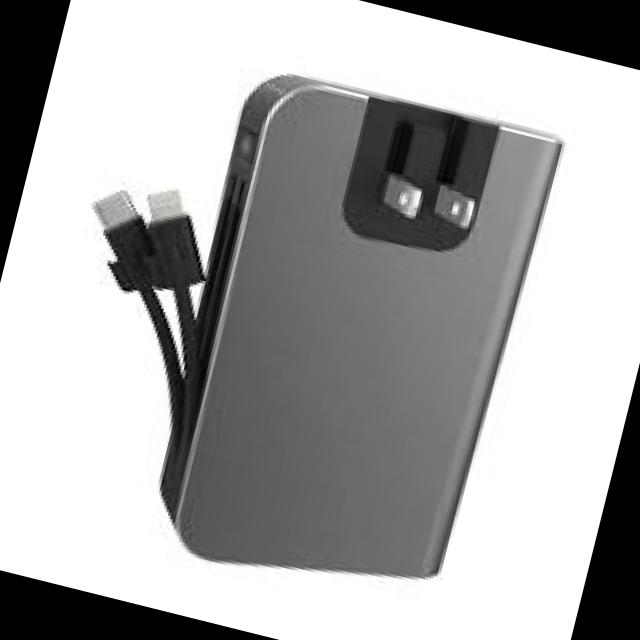power_bank: (128, 57, 570, 620)
